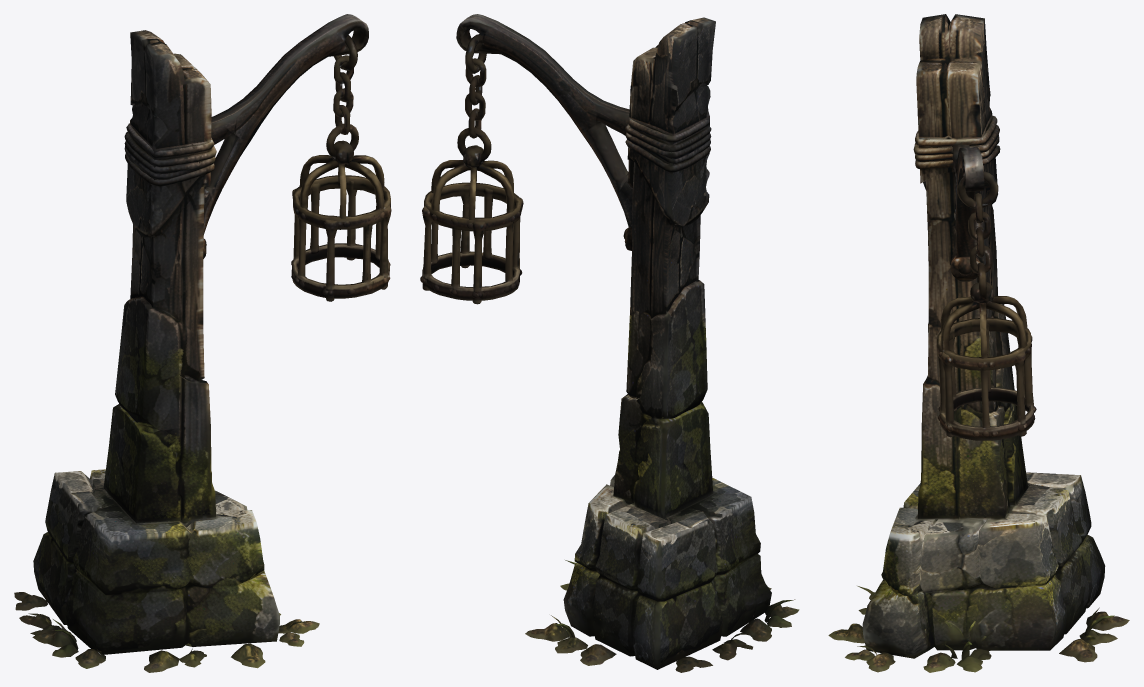
The model's file is act1_kit_v1_bog_lure_post.glb.
3 renders of one model, left to right at view 1: azimuth 30°, elevation 25°; view 2: azimuth 150°, elevation 25°; view 3: azimuth 270°, elevation 25°, orthographic. The views are drawn at different scales.
Parts seen in each view (by area): view 1: act1_kit_v1_bog_lure_post; view 2: act1_kit_v1_bog_lure_post; view 3: act1_kit_v1_bog_lure_post.
Part boxes in pixels (x1,y1,x2,y2): act1_kit_v1_bog_lure_post: (14, 14, 391, 672); act1_kit_v1_bog_lure_post: (420, 14, 799, 672); act1_kit_v1_bog_lure_post: (828, 14, 1129, 672).
Size of the model in its own units: 0.6246 by 1 by 0.4577.
1 material, 1 textured.
